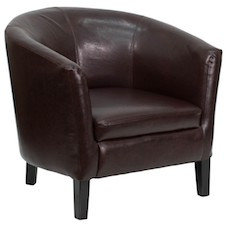chair: (4, 2, 221, 223)
